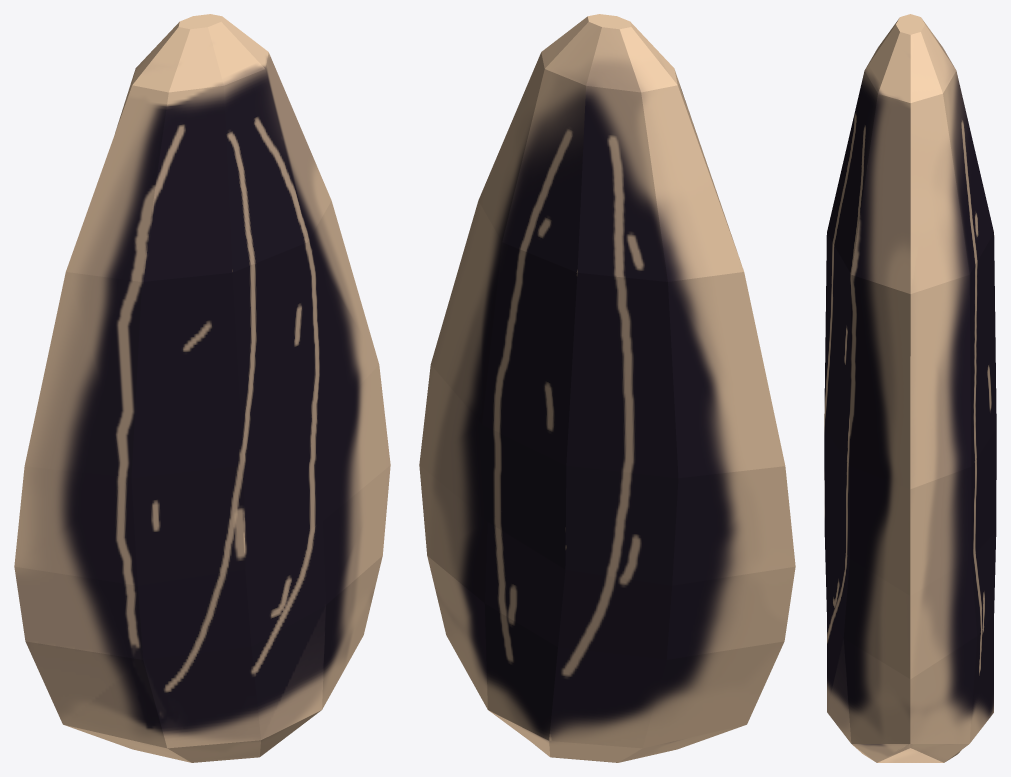
File: sunflowerSeed.glb
3 views of the same model, side by side, from view 1: azimuth 30°, elevation 25°; view 2: azimuth 150°, elevation 25°; view 3: azimuth 270°, elevation 25° (orthographic).
Visible parts, largest first — view 1: Cylinder; view 2: Cylinder; view 3: Cylinder.
Part boxes in pixels (box(x1,y1,x2,y2)): Cylinder: box(14, 14, 390, 762); Cylinder: box(419, 14, 795, 762); Cylinder: box(824, 14, 996, 762).
Bounding box in the file's own units: 2.1 × 3.88 × 0.8503.
1 material, 1 textured.
